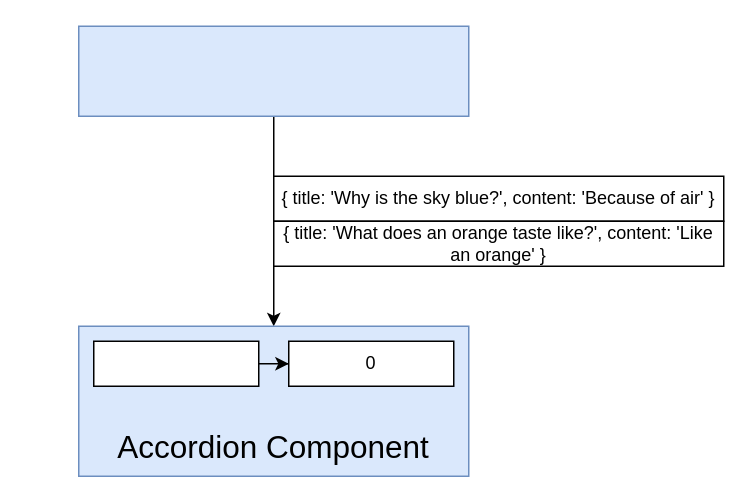
This 750x503 diagram has some shape labels left out. Here are the shapes that lost their labels. From the top down, the box of each, then its label:
(77, 25, 469, 116): ModsHome Component
(92, 340, 259, 386): openedItemIndex
